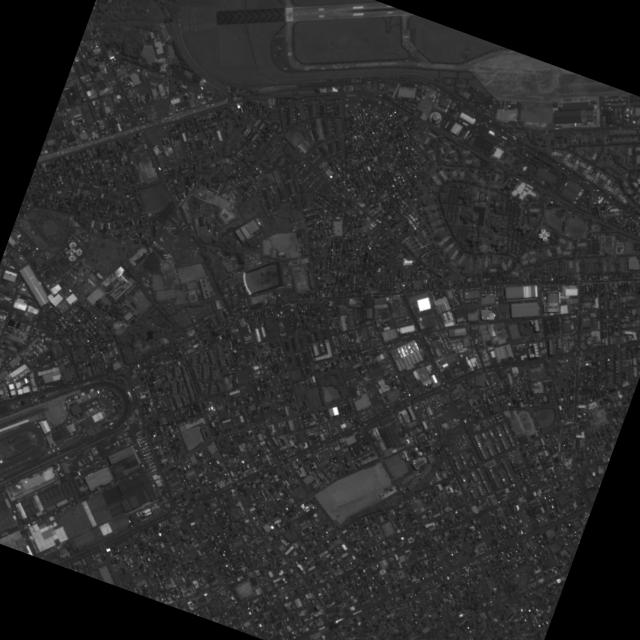storage-tank: (626, 112, 630, 117), (626, 107, 630, 111), (633, 119, 636, 123)
